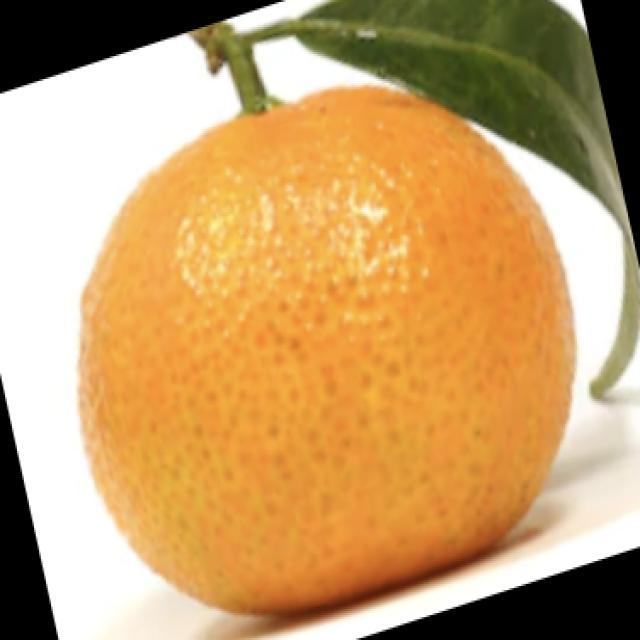matang: (80, 86, 574, 610)
